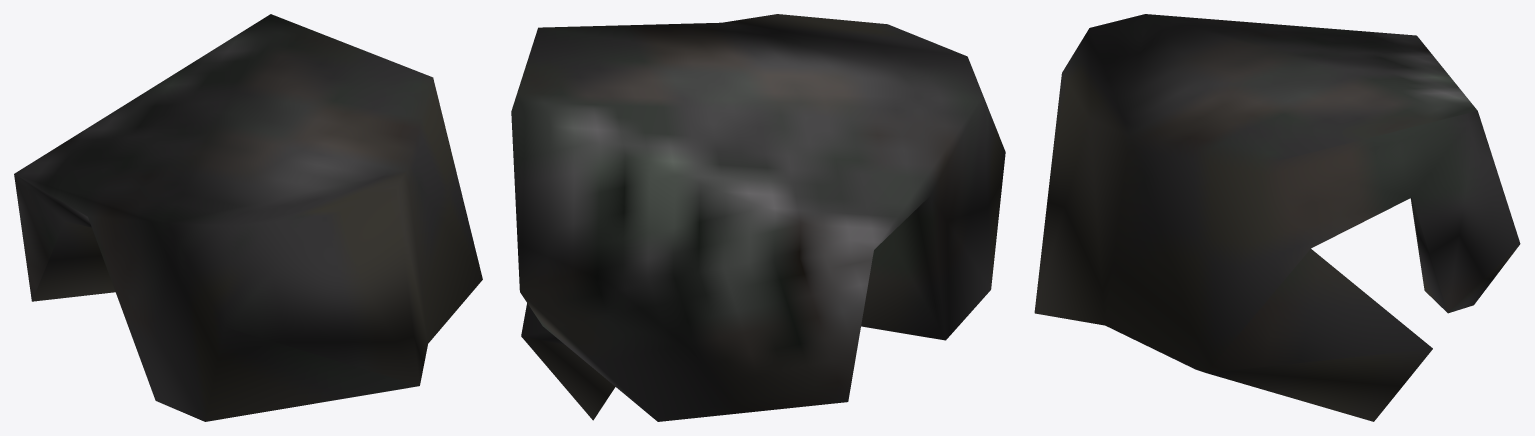
The model's file is Robot01.LeftPalm1.fbx.
3 views of the same model, side by side, from view 1: azimuth 30°, elevation 25°; view 2: azimuth 150°, elevation 25°; view 3: azimuth 270°, elevation 25° (orthographic). The views are drawn at different scales.
Parts seen in each view (by area): view 1: Robot.012; view 2: Robot.012; view 3: Robot.012.
Boxes of the visible parts, box(x1,y1,x2,y2) form: Robot.012: box(14, 14, 482, 421); Robot.012: box(511, 14, 1005, 421); Robot.012: box(1034, 14, 1520, 421).
Size of the model in its own units: 30.35 by 22.98 by 31.28.
